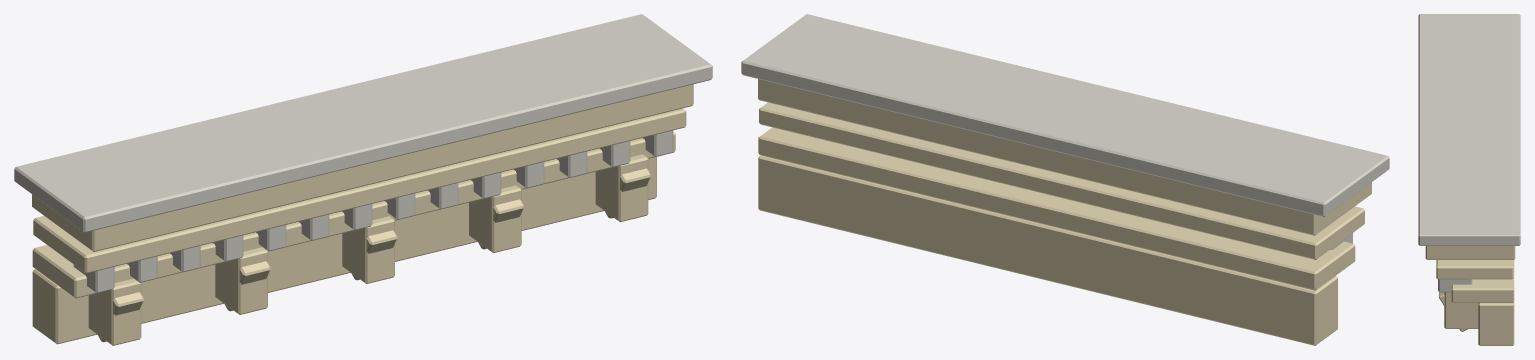
The model's file is b12_dentil_cornice_section.glb.
The picture shows the model from 3 angles, left to right: view 1: azimuth 30°, elevation 25°; view 2: azimuth 150°, elevation 25°; view 3: azimuth 270°, elevation 25°; orthographic projection. The views are drawn at different scales.
Visible parts, largest first — view 1: b12_dentil_cornice_section; view 2: b12_dentil_cornice_section; view 3: b12_dentil_cornice_section.
Boxes of the visible parts, x1=… form: b12_dentil_cornice_section: x1=14, y1=14, x2=712, y2=345; b12_dentil_cornice_section: x1=741, y1=14, x2=1389, y2=345; b12_dentil_cornice_section: x1=1418, y1=14, x2=1520, y2=345.
Bounding box in the file's own units: 2.93 × 0.717 × 0.57.
